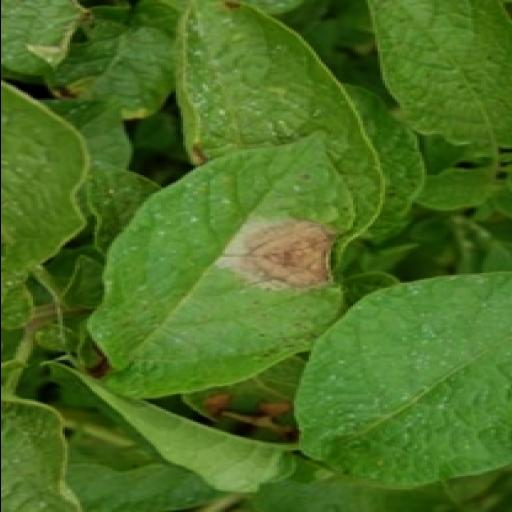Late Blight: (81, 132, 357, 408)
